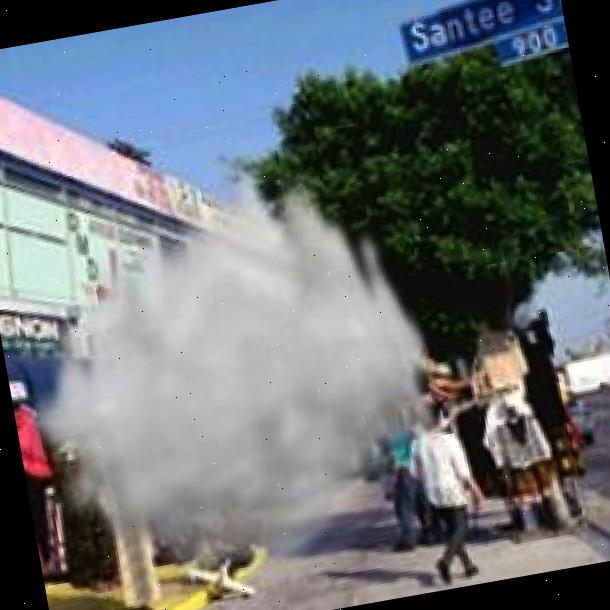smoke: (0, 124, 468, 610)
